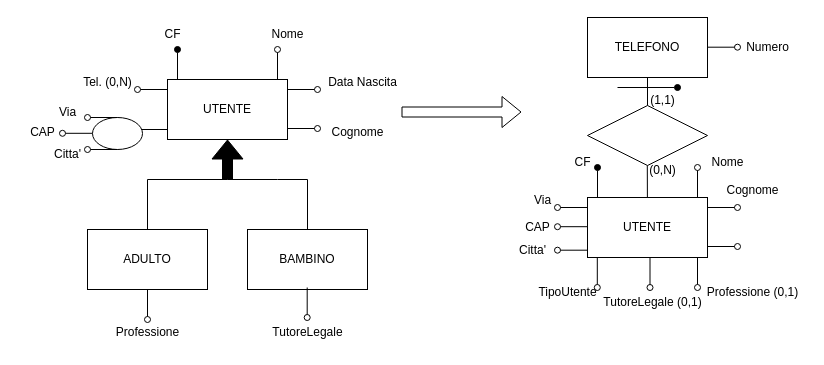
The diagram is 824 pixels wide and 365 high, and some of its shapes have lost their labels. Each missing label, with the box of its shape:
Indirizzo: (92, 116, 142, 150)
U-T: (586, 104, 708, 166)
